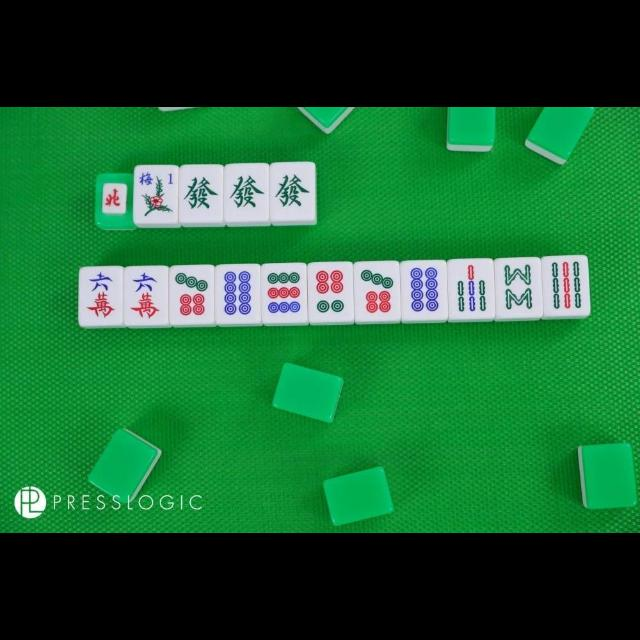b7: (448, 260, 494, 318)
b8: (495, 260, 541, 316)
b9: (544, 257, 588, 315)
c6: (79, 267, 123, 325), (124, 266, 168, 324)
d6: (308, 262, 354, 322)
d7: (354, 262, 402, 321), (170, 266, 212, 322)
d8: (216, 264, 260, 324), (403, 262, 447, 320)
d9: (262, 265, 306, 321)
dg: (180, 166, 224, 224), (271, 163, 315, 219), (226, 164, 268, 220)
f1: (136, 168, 178, 190)
